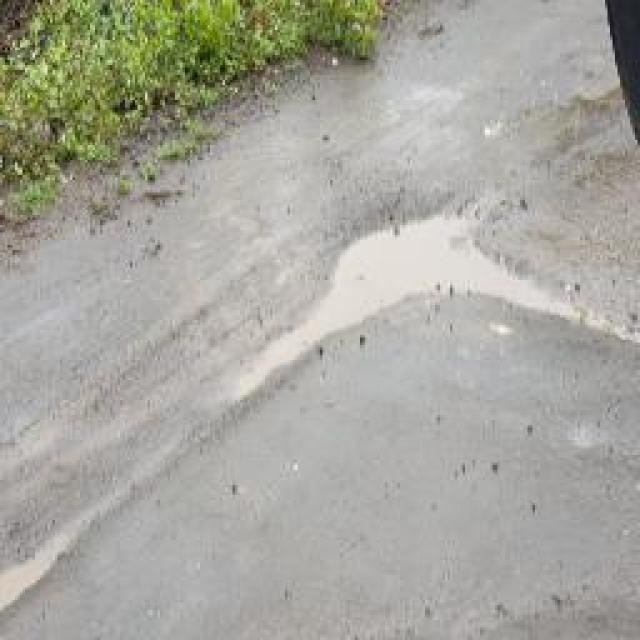stagnation: (181, 172, 623, 434)
